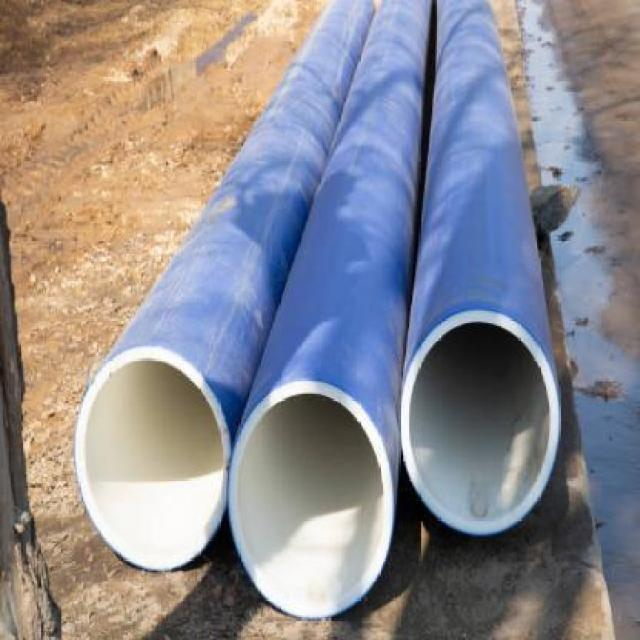pipe: (230, 380, 396, 619), (400, 310, 560, 536), (75, 348, 231, 573)
